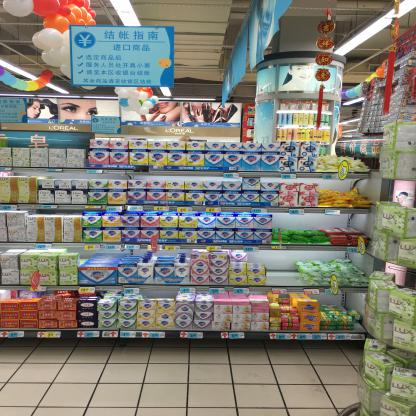Void: (272, 213, 356, 229), (268, 250, 300, 282), (321, 290, 362, 307), (143, 286, 174, 297)
